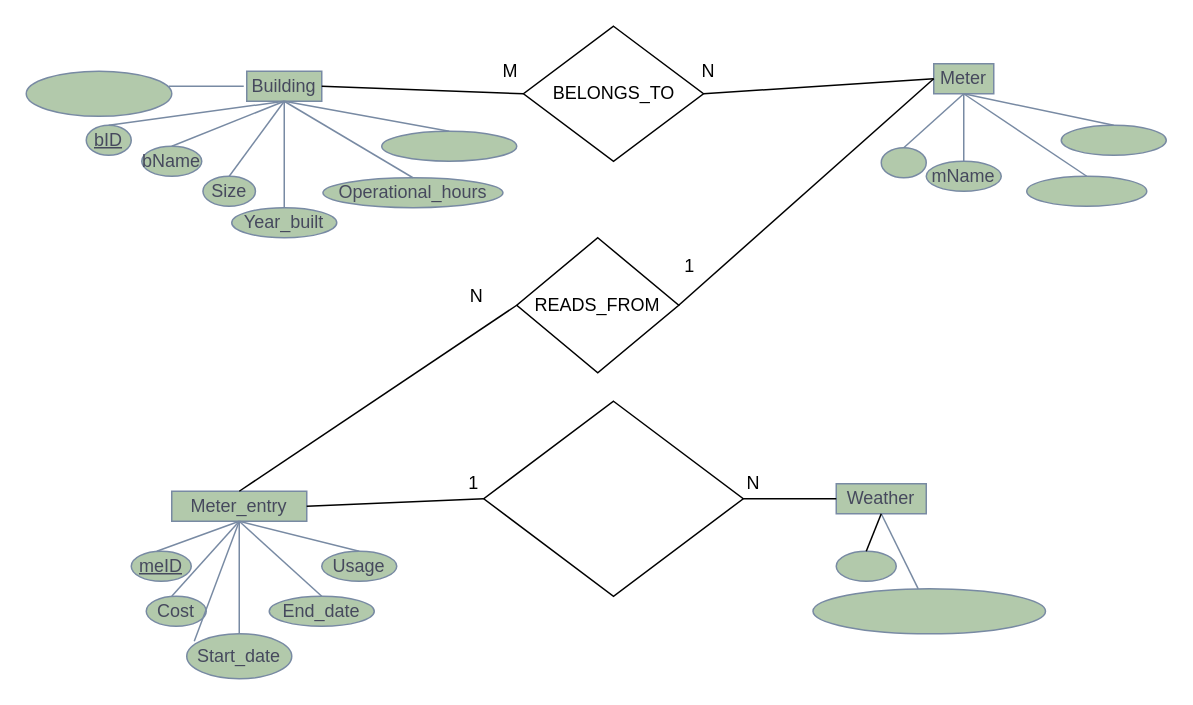
Image size: 1193x705. Some labels were removed from this diagram. Here are the shapes that lost their labels. From the top down, the centre of each, then its label:
the point at 98,93: efficiency factor
the point at 448,145: Primary_use
the point at 1113,139: Unit_type
the point at 903,162: mID
the point at 1086,190: Energy_type
the point at 612,498: TEMPERATURE_DURING
the point at 865,565: Date
the point at 929,610: Average_temperature
